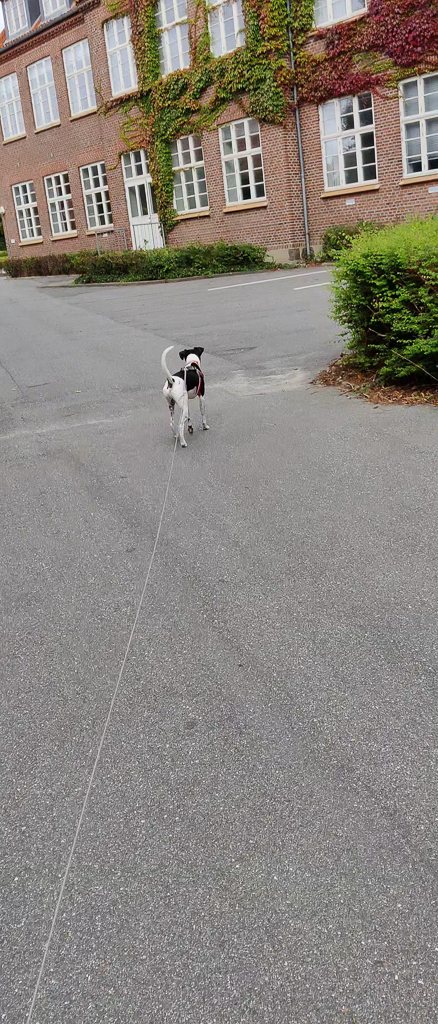Dog: (153, 337, 223, 454)
